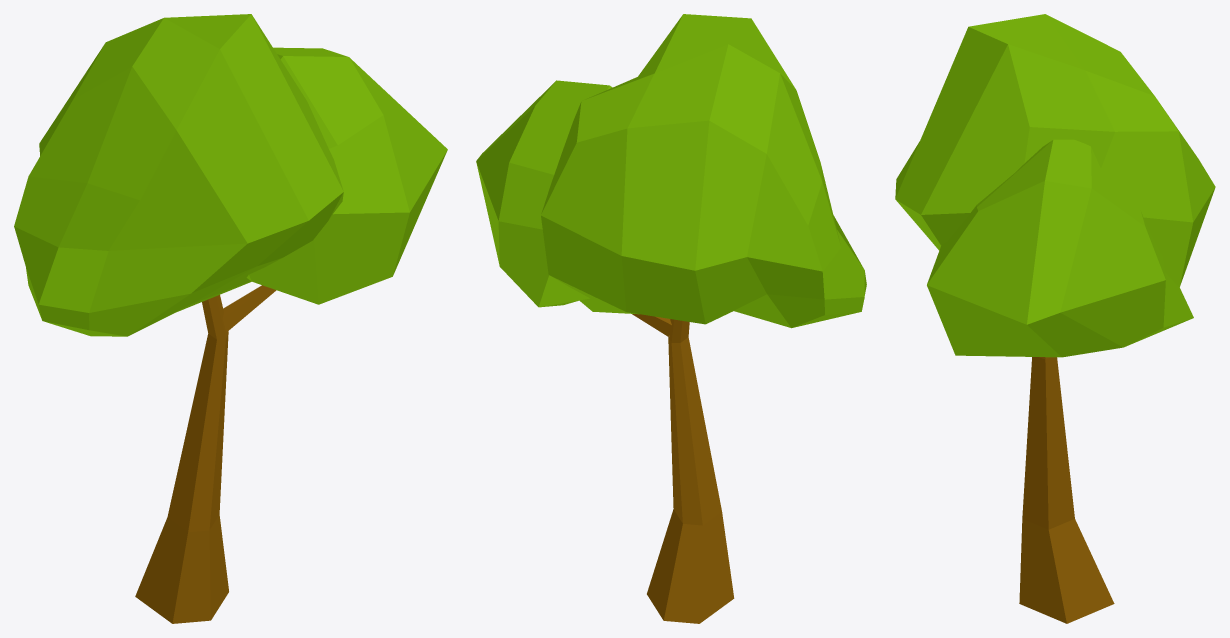
Rendered from tree_c_01.fbx.
3 views of the same model, side by side, from view 1: azimuth 30°, elevation 25°; view 2: azimuth 150°, elevation 25°; view 3: azimuth 270°, elevation 25° (orthographic). The views are drawn at different scales.
Parts seen in each view (by area): view 1: pCube8, pCube7, pCube5, pCube6; view 2: pCube8, pCube5, pCube7; view 3: pCube8, pCube7, pCube5.
Part boxes in pixels (bbox=[...]): pCube8: bbox=[14, 14, 343, 336]; pCube7: bbox=[246, 47, 447, 304]; pCube5: bbox=[135, 295, 228, 623]; pCube6: bbox=[223, 285, 276, 331]; pCube8: bbox=[541, 14, 866, 328]; pCube5: bbox=[647, 319, 734, 623]; pCube7: bbox=[476, 80, 612, 307]; pCube8: bbox=[895, 14, 1215, 287]; pCube7: bbox=[927, 139, 1193, 357]; pCube5: bbox=[1019, 357, 1114, 623].
Bounding box in the file's own units: 207 × 291 × 147.
